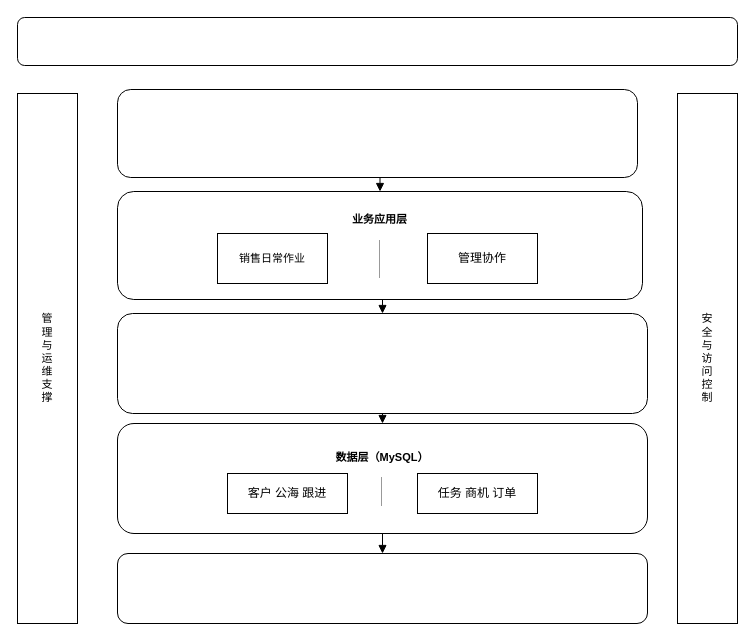
This 755x641 diagram has some shape labels left out. The centre of each missing label's shape, as x and y in pixels:
基于 React 的贸易行业的客户关系管理系统: pixel 377 41
支撑软件层 运行环境 Node.js、Express 框架、RESTful 接口 核心中间件 外部服务集成 大语言模型 API: pixel 382 363
硬件网络层 用户终端、浏览器 局域网、互联网 数据库服务器: pixel 382 588
表示层 Web 管理端界面 React 、路由与组件化、ECharts: pixel 377 133
